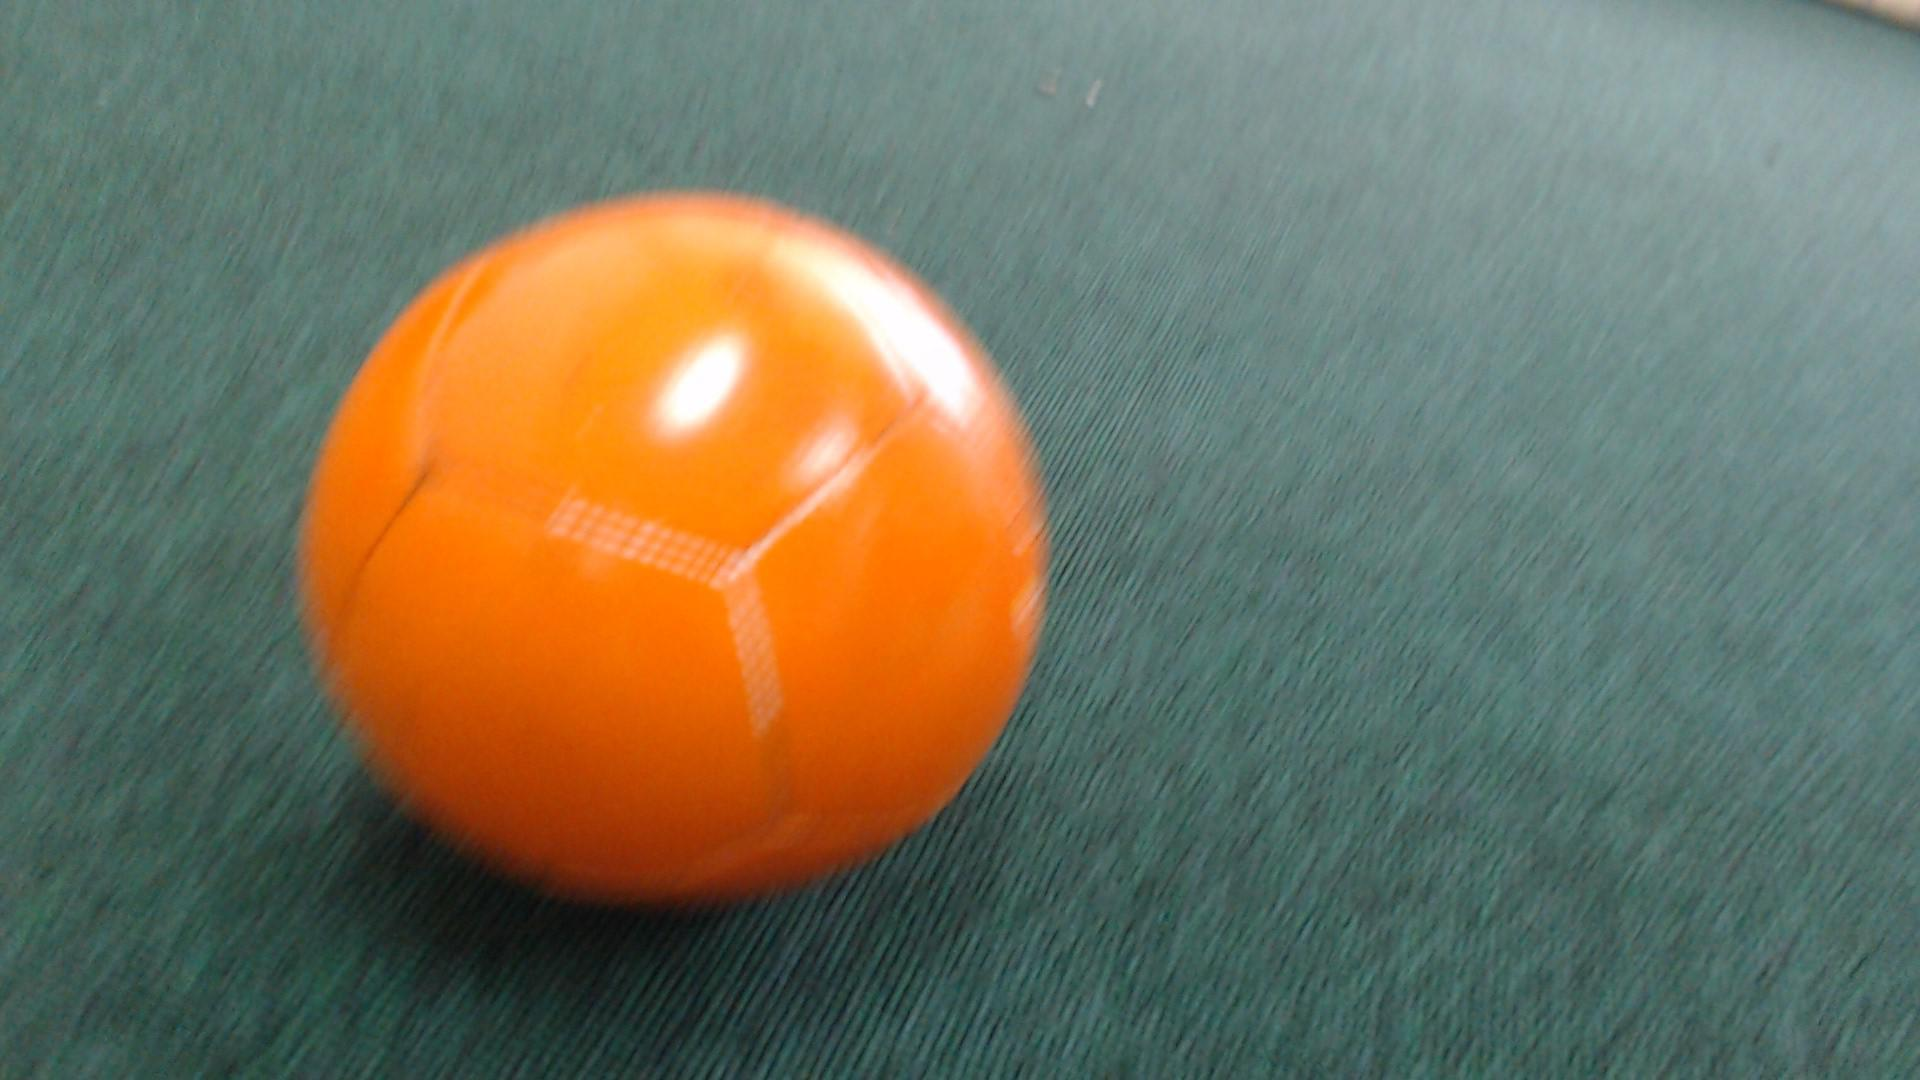bola: (268, 186, 1098, 916)
